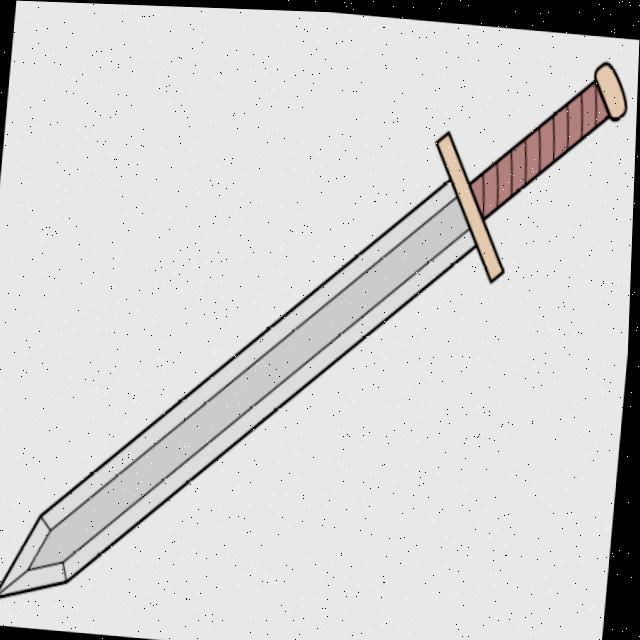knife: (0, 8, 634, 640)
